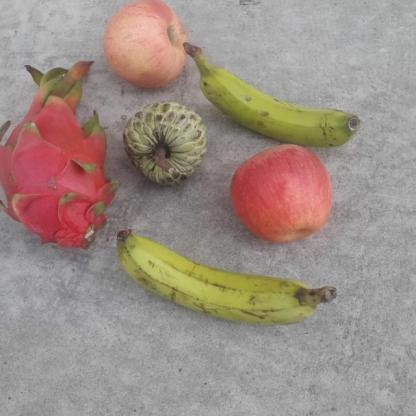annona: (122, 101, 206, 188)
apple: (229, 144, 334, 244), (103, 0, 189, 89)
banana: (113, 227, 336, 328), (180, 42, 361, 148)
pitaya: (0, 61, 118, 252)
